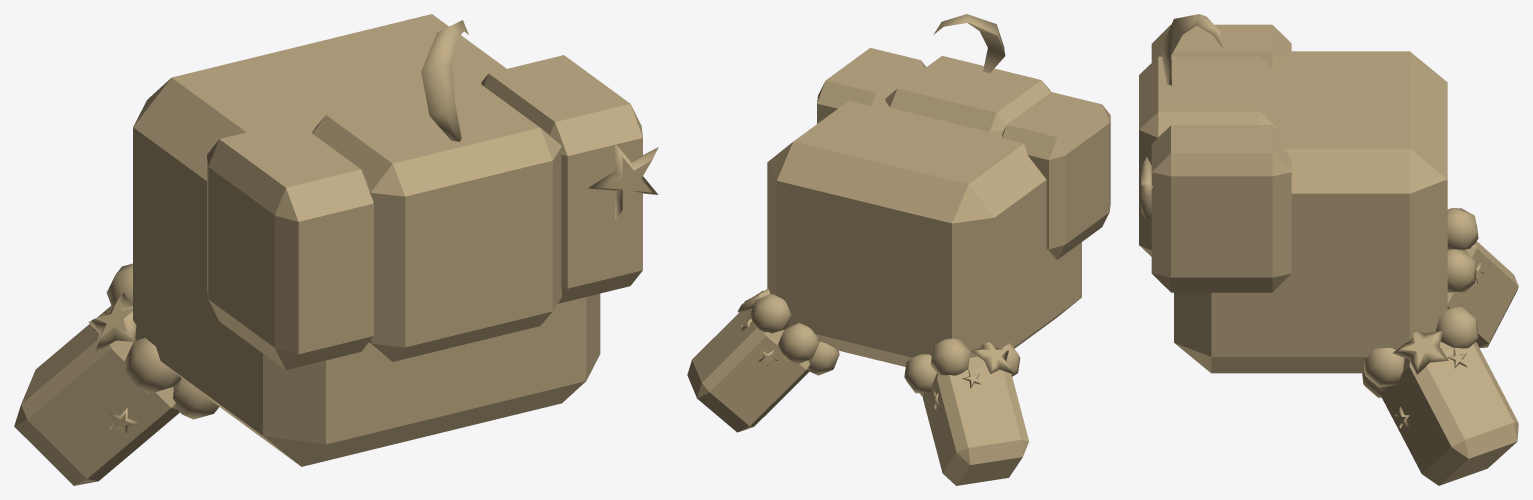
The model's file is SD_Hair_Reisa02_Texture.fbx.
3 renders of one model, left to right at view 1: azimuth 30°, elevation 25°; view 2: azimuth 150°, elevation 25°; view 3: azimuth 270°, elevation 25°, orthographic. The views are drawn at different scales.
Parts seen in each view (by area): view 1: Object037, Object032, Object036, Object033, Object053, Object035, Object034, Object049, Object056, Object052, Object050; view 2: Object037, Object036, Object053, Object038, Object032, Object033, Object044, Object045, Object050, Object051, Object056, Object043 (+2 smaller); view 3: Object037, Object033, Object038, Object032, Object036, Object053, Object044, Object041, Object035, Object040, Object050, Object051 (+1 smaller).
Boxes of the visible parts, bbox=[...] form: Object037: bbox=[133, 14, 600, 466]; Object032: bbox=[312, 79, 561, 361]; Object036: bbox=[207, 120, 373, 369]; Object033: bbox=[481, 55, 642, 303]; Object053: bbox=[14, 305, 179, 485]; Object035: bbox=[421, 20, 468, 141]; Object034: bbox=[588, 143, 658, 219]; Object049: bbox=[124, 338, 181, 393]; Object056: bbox=[88, 293, 136, 352]; Object052: bbox=[173, 378, 218, 419]; Object050: bbox=[106, 263, 132, 306]; Object037: bbox=[767, 100, 1081, 366]; Object036: bbox=[1002, 92, 1110, 259]; Object053: bbox=[923, 356, 1028, 485]; Object038: bbox=[687, 309, 810, 432]; Object032: bbox=[885, 56, 1050, 131]; Object033: bbox=[817, 48, 926, 123]; Object044: bbox=[749, 294, 791, 333]; Object045: bbox=[778, 323, 819, 364]; Object050: bbox=[930, 338, 970, 375]; Object051: bbox=[904, 354, 936, 393]; Object056: bbox=[971, 342, 1013, 373]; Object043: bbox=[808, 341, 839, 375]; Object037: bbox=[1174, 51, 1447, 373]; Object033: bbox=[1151, 125, 1291, 292]; Object038: bbox=[1379, 342, 1518, 485]; Object032: bbox=[1139, 56, 1276, 256]; Object036: bbox=[1151, 24, 1291, 66]; Object053: bbox=[1447, 241, 1518, 347]; Object044: bbox=[1435, 306, 1478, 348]; Object041: bbox=[1392, 330, 1448, 374]; Object035: bbox=[1161, 14, 1222, 85]; Object040: bbox=[1364, 348, 1404, 387]; Object050: bbox=[1447, 208, 1478, 249]; Object051: bbox=[1447, 249, 1476, 293].
Size of the model in its own units: 36.18 by 36.11 by 31.22.
